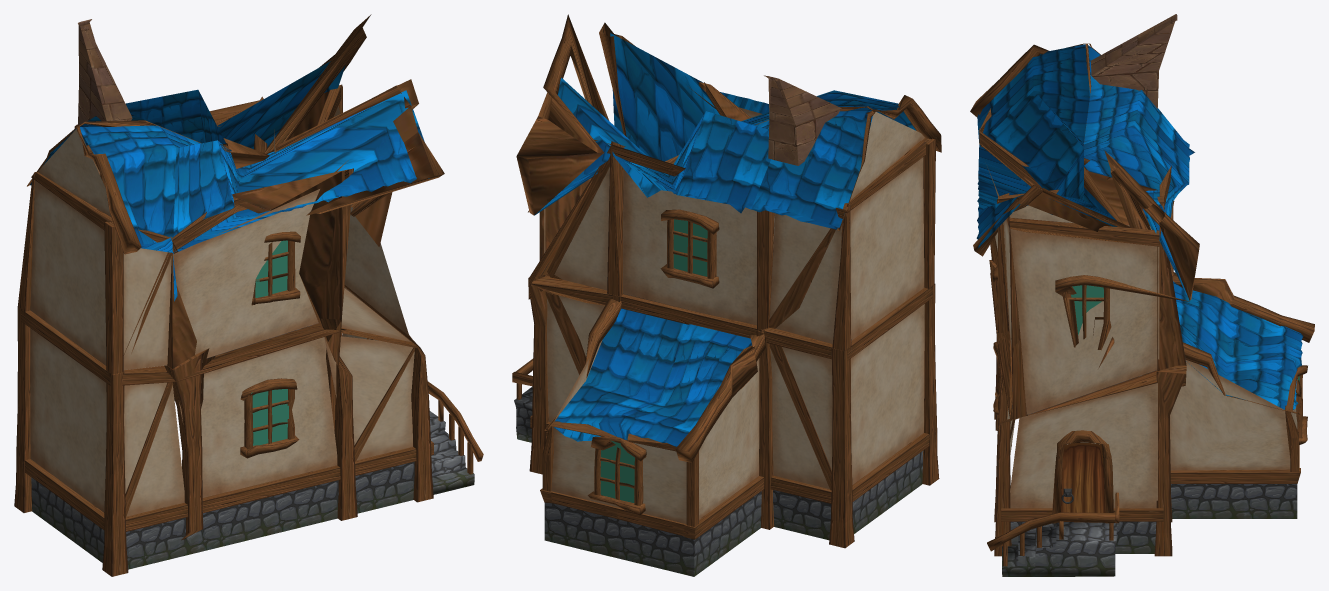
Rendered from house5_morph.fbx.
3 views of the same model, side by side, from view 1: azimuth 30°, elevation 25°; view 2: azimuth 150°, elevation 25°; view 3: azimuth 270°, elevation 25° (orthographic). The views are drawn at different scales.
Visible parts, largest first — view 1: house5before; view 2: house5before; view 3: house5before.
Part boxes in pixels (x1,y1,x2,y2): house5before: (14, 14, 483, 576); house5before: (512, 14, 941, 576); house5before: (970, 14, 1314, 576).
Size of the model in its own units: 144 by 173 by 127.
Materials: 3 (2 with a texture image).
